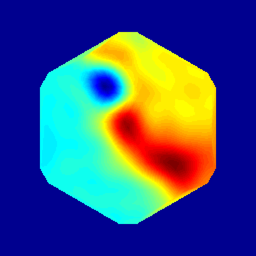ship: (96, 66, 122, 102)
wave: (114, 93, 146, 143)
